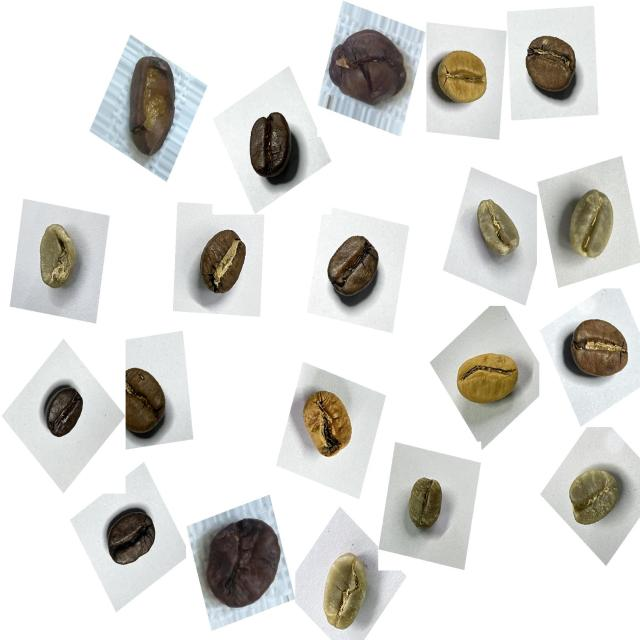bad: (194, 506, 287, 621), (114, 47, 191, 169), (323, 16, 413, 118)
dark: (237, 100, 309, 191), (97, 500, 165, 582), (37, 372, 95, 449)
green: (310, 540, 381, 640), (557, 180, 627, 274), (559, 456, 632, 540), (25, 212, 91, 304), (466, 192, 532, 272), (398, 465, 456, 543)
light: (292, 381, 363, 472), (449, 338, 527, 420), (425, 36, 495, 116)
medium: (315, 222, 391, 313), (560, 307, 638, 393), (515, 24, 588, 109), (188, 219, 259, 306), (114, 355, 179, 445)
